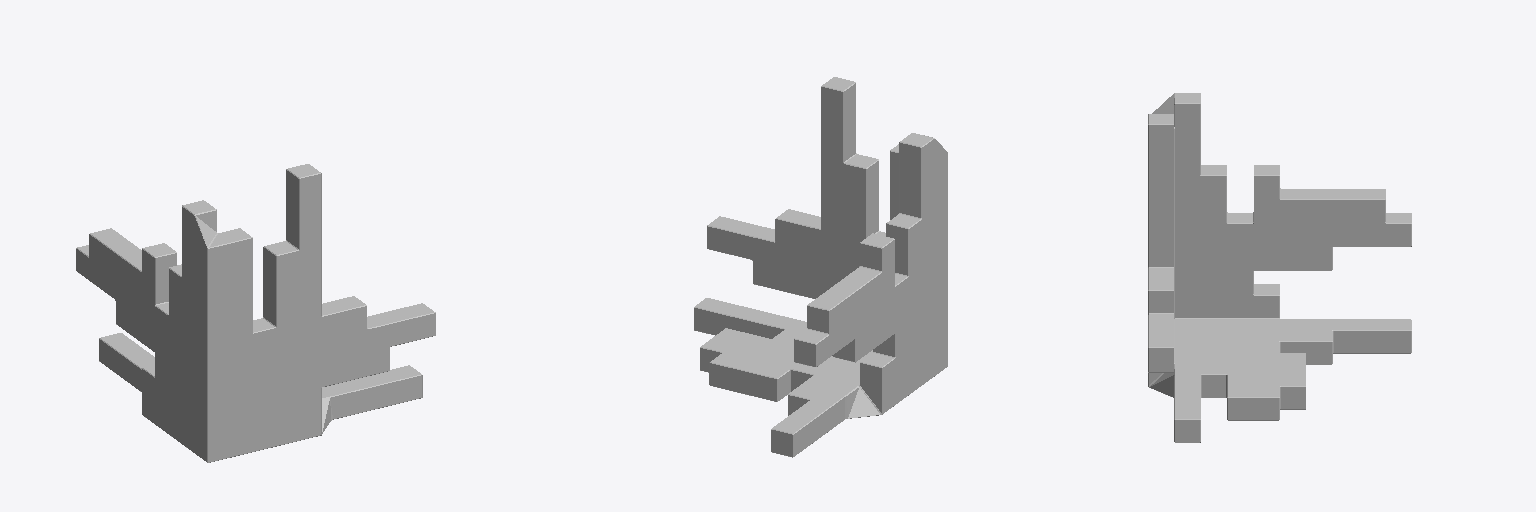
Rendered from PuzzleCube5.obj.
3 renders of one model, left to right at view 1: azimuth 30°, elevation 25°; view 2: azimuth 150°, elevation 25°; view 3: azimuth 270°, elevation 25°, orthographic.
Visible parts, largest first — view 1: Cube.009_Cube.012; view 2: Cube.009_Cube.012; view 3: Cube.009_Cube.012.
Part boxes in pixels (x1,y1,x2,y2): Cube.009_Cube.012: (76,164,435,462); Cube.009_Cube.012: (694,77,947,457); Cube.009_Cube.012: (1148,93,1411,442).
Size of the model in its own units: 5 by 5.5 by 5.